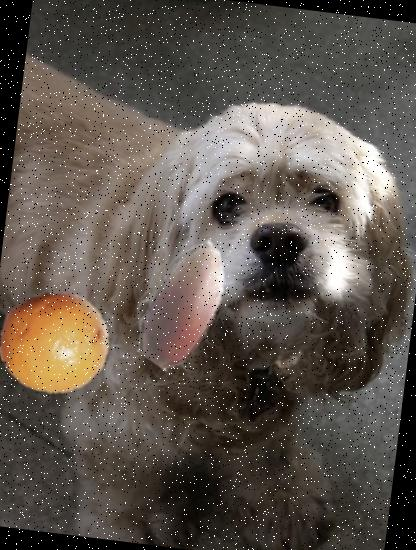Hazelnut: (111, 228, 263, 380)
Lemon: (0, 281, 115, 404)
